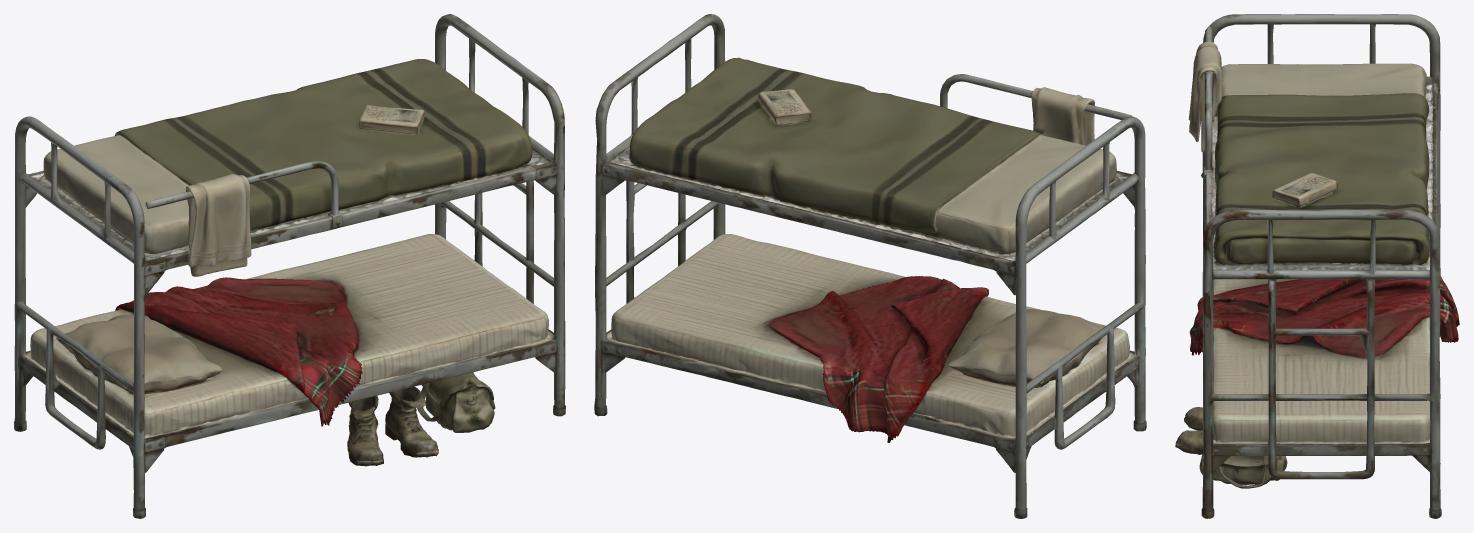
Rendered from silo81_bunk_a.glb.
The picture shows the model from 3 angles, left to right: view 1: azimuth 30°, elevation 25°; view 2: azimuth 150°, elevation 25°; view 3: azimuth 270°, elevation 25°; orthographic projection. The views are drawn at different scales.
Parts seen in each view (by area): view 1: tripo_node_0267a436-e026-4a34-848a-f0e84e803c12; view 2: tripo_node_0267a436-e026-4a34-848a-f0e84e803c12; view 3: tripo_node_0267a436-e026-4a34-848a-f0e84e803c12.
Part boxes in pixels (x1,y1,x2,y2): tripo_node_0267a436-e026-4a34-848a-f0e84e803c12: [14, 14, 565, 518]; tripo_node_0267a436-e026-4a34-848a-f0e84e803c12: [594, 14, 1146, 518]; tripo_node_0267a436-e026-4a34-848a-f0e84e803c12: [1175, 14, 1459, 518].
Size of the model in its own units: 0.9794 by 0.6875 by 0.5783.
1 material, 1 textured.
